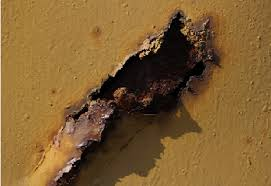rust: (78, 17, 211, 114), (20, 106, 114, 181)
